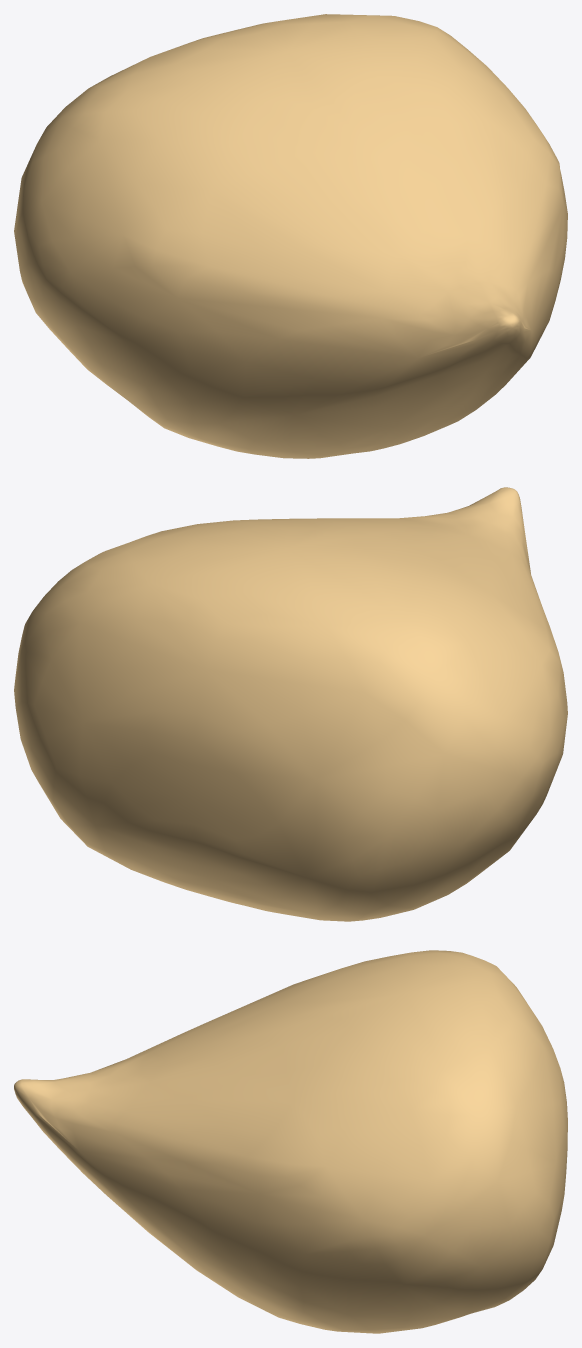
The model's file is pelvis-urinary-balanced.glb.
3 views of the same model, one above another, from view 1: azimuth 30°, elevation 25°; view 2: azimuth 150°, elevation 25°; view 3: azimuth 270°, elevation 25° (orthographic). The views are drawn at different scales.
Parts seen in each view (by area): view 1: organ.urinary-bladder; view 2: organ.urinary-bladder; view 3: organ.urinary-bladder.
Boxes of the visible parts, box(x1,y1,x2,y2) form: organ.urinary-bladder: box(14, 14, 567, 458); organ.urinary-bladder: box(14, 487, 567, 921); organ.urinary-bladder: box(14, 950, 567, 1333).
Size of the model in its own units: 0.0745 by 0.0513 by 0.0833.
